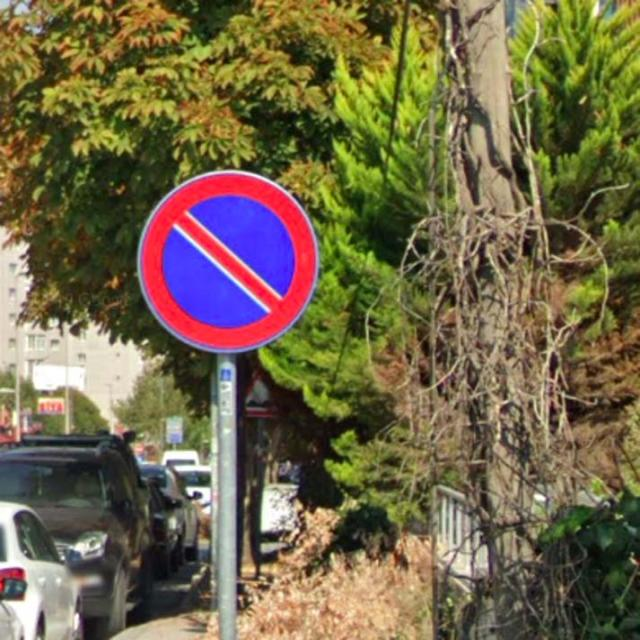parkyasak: (136, 168, 320, 354)
